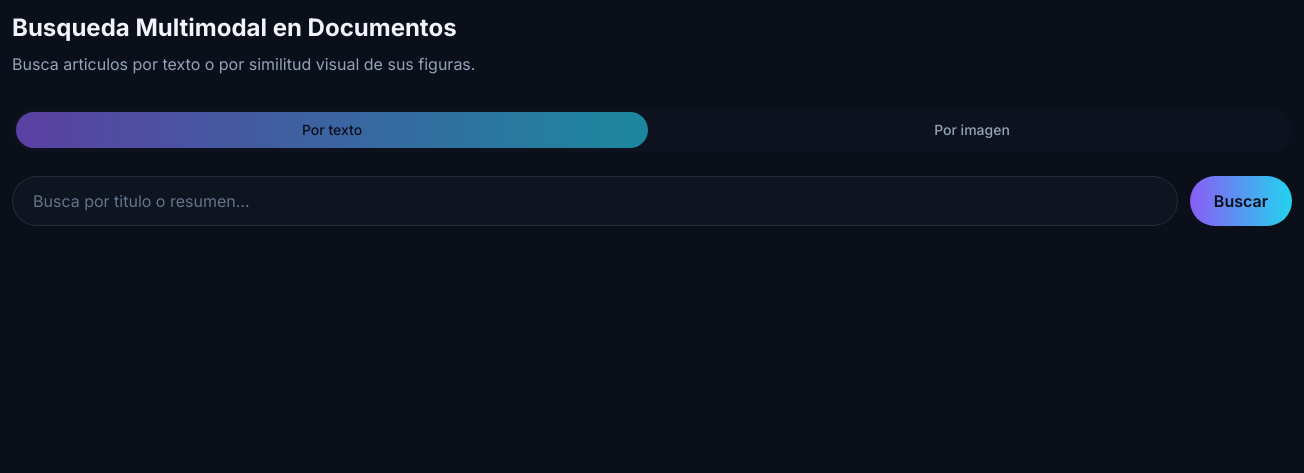
DocumentSearchPage › switches to the image tab and shows the upload dropzone
What coordinates should you click on to do the following:
click the tab "Por imagen"
I would click on:
 (972, 130)
Its box is [656,112,1288,148].
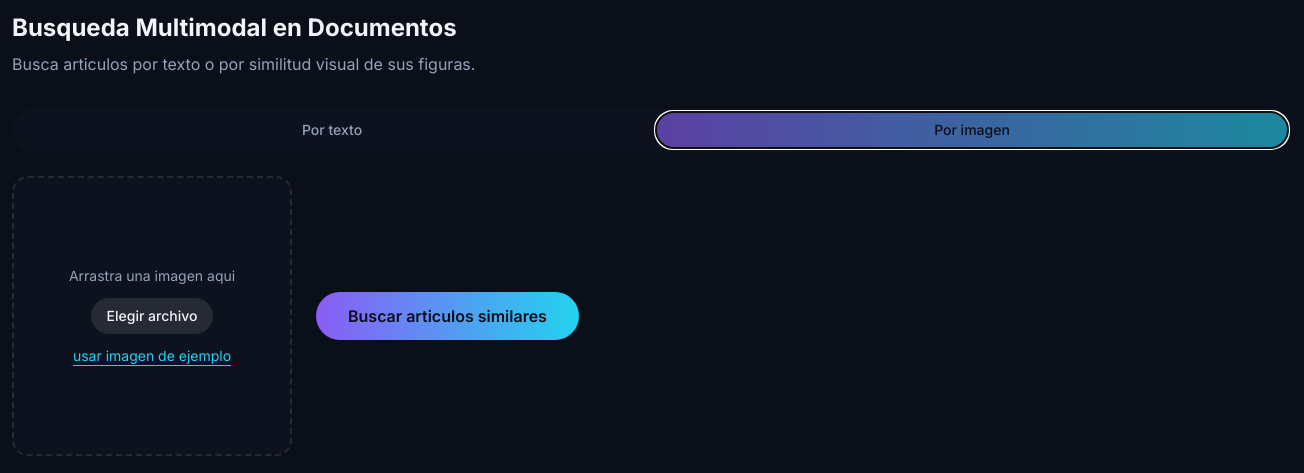
Expected: the file field named "Subir imagen" is shown, [90,298,213,334]
